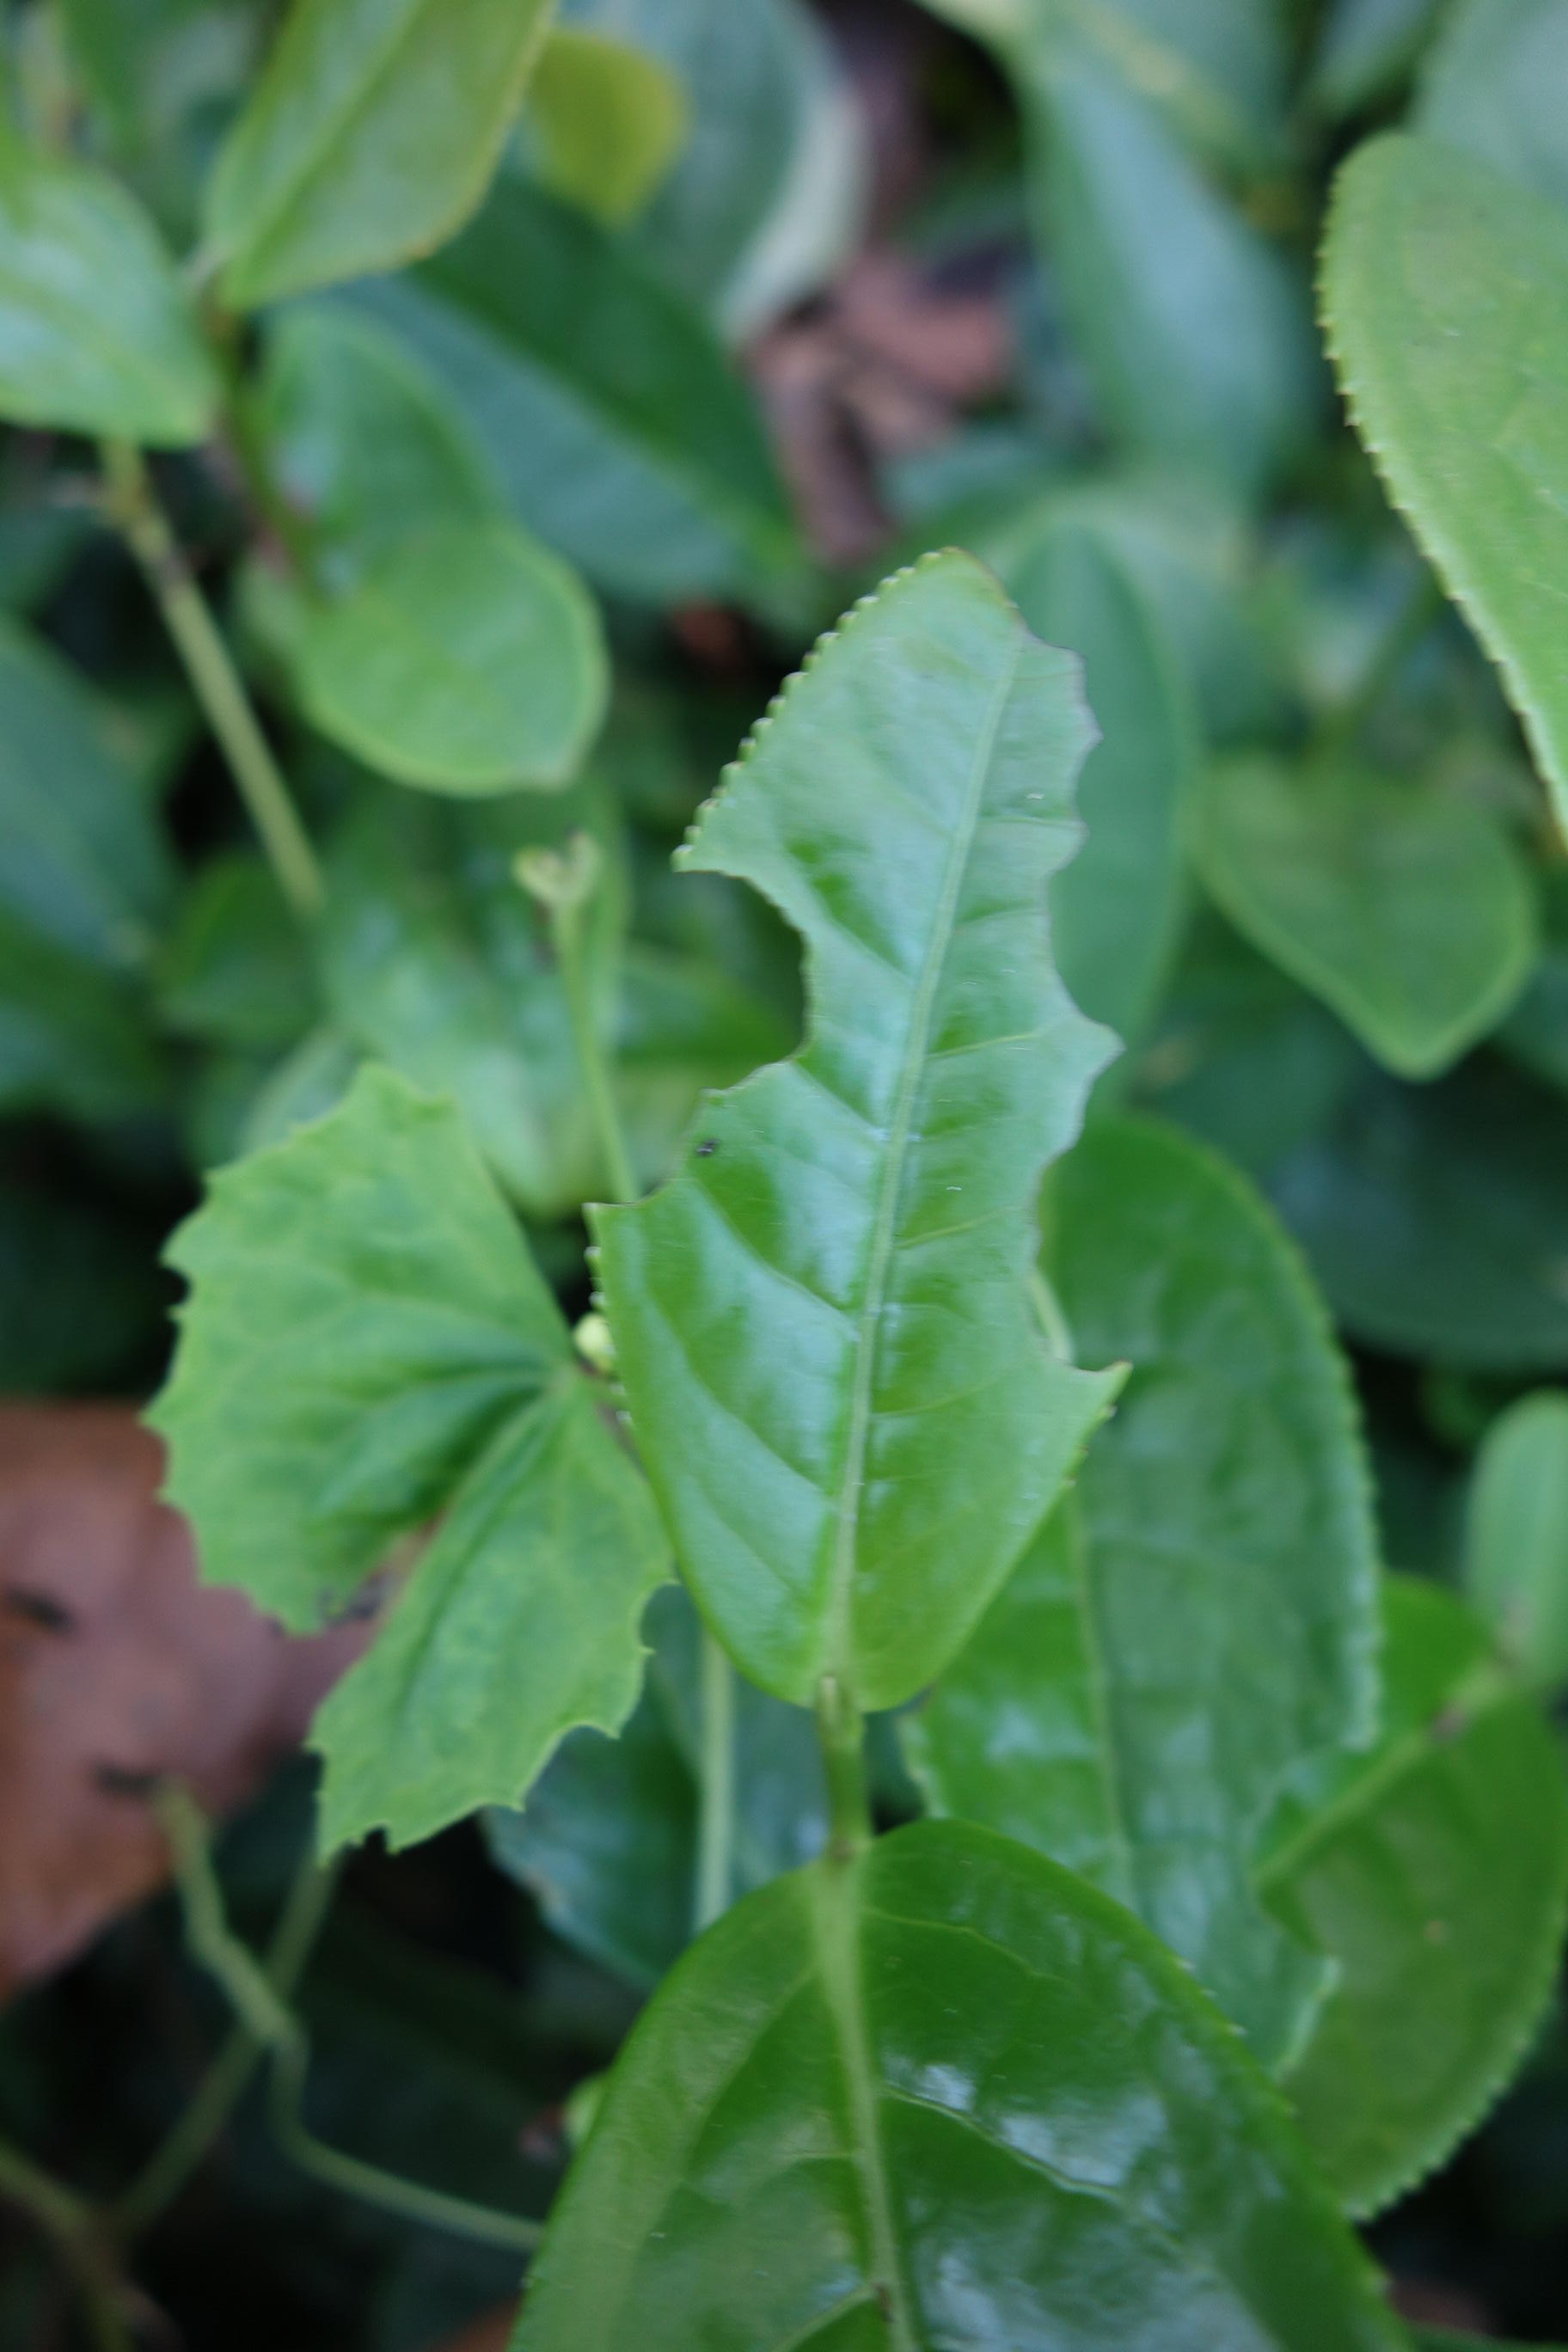chihuo_high: (583, 535, 1132, 1715)
